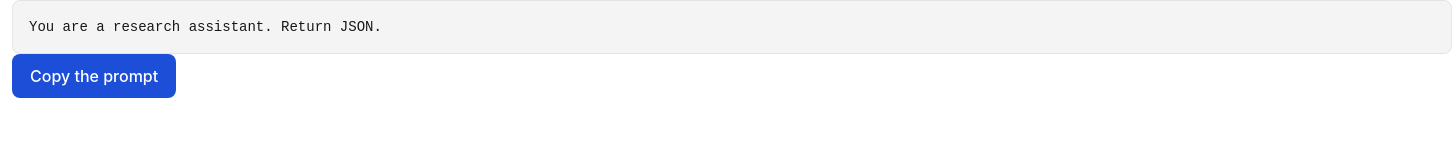
Test: CopyButton › selects the text and explains the long press when the phone refuses the clipboard
The image size is (1452, 160).
Click the button "Copy the prompt" at (94, 76), box 12,54 -> 176,98
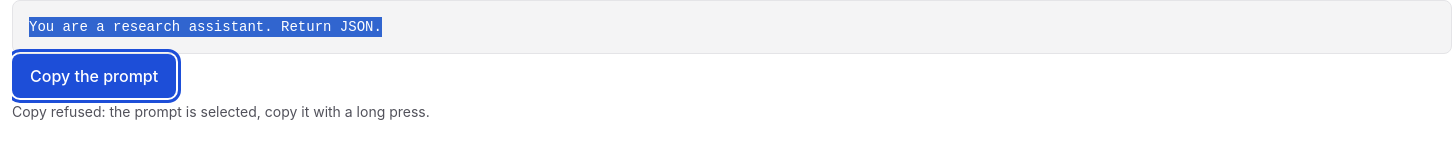
Expected: the text "You are a research assistant. Return JSON." is shown, 12,0 -> 1451,54
Result: the text "Copy refused: the prompt is selected, copy it with a long press." is shown at 12,102 -> 430,122
